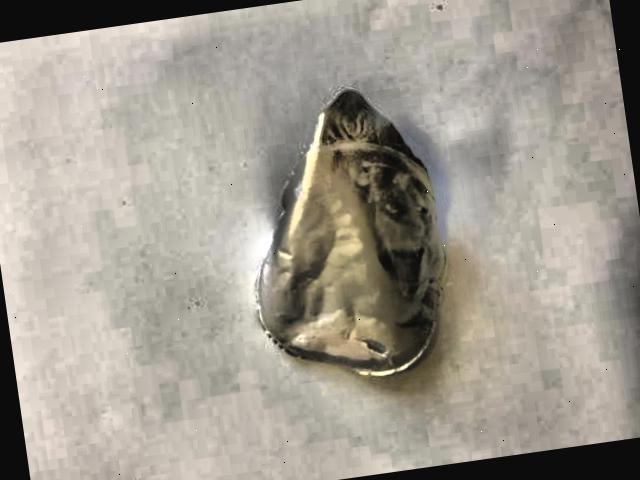Almennt: (190, 64, 478, 415)
